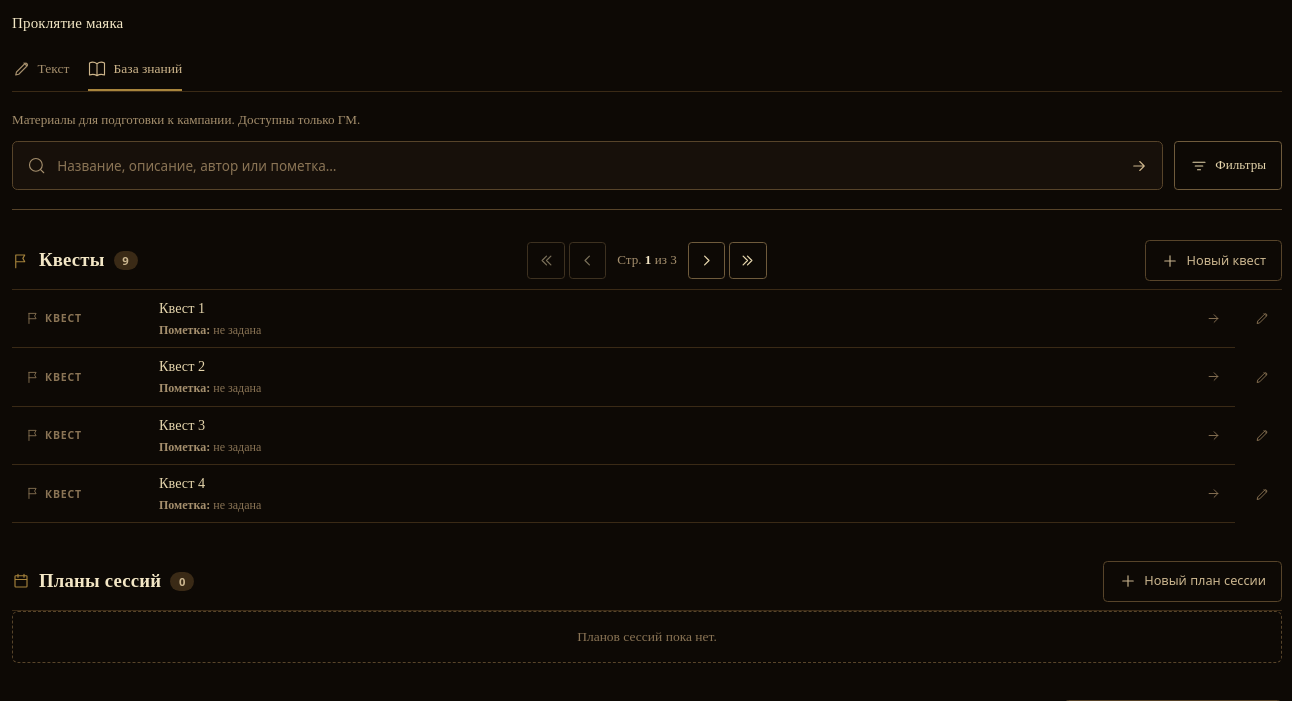
public campaign knowledge base › returns sections to the first page when search changes
The image size is (1292, 701).
Step 1. Click the button named "Последняя страница" → (748, 261), box x1=729 y1=242 x2=767 y2=279
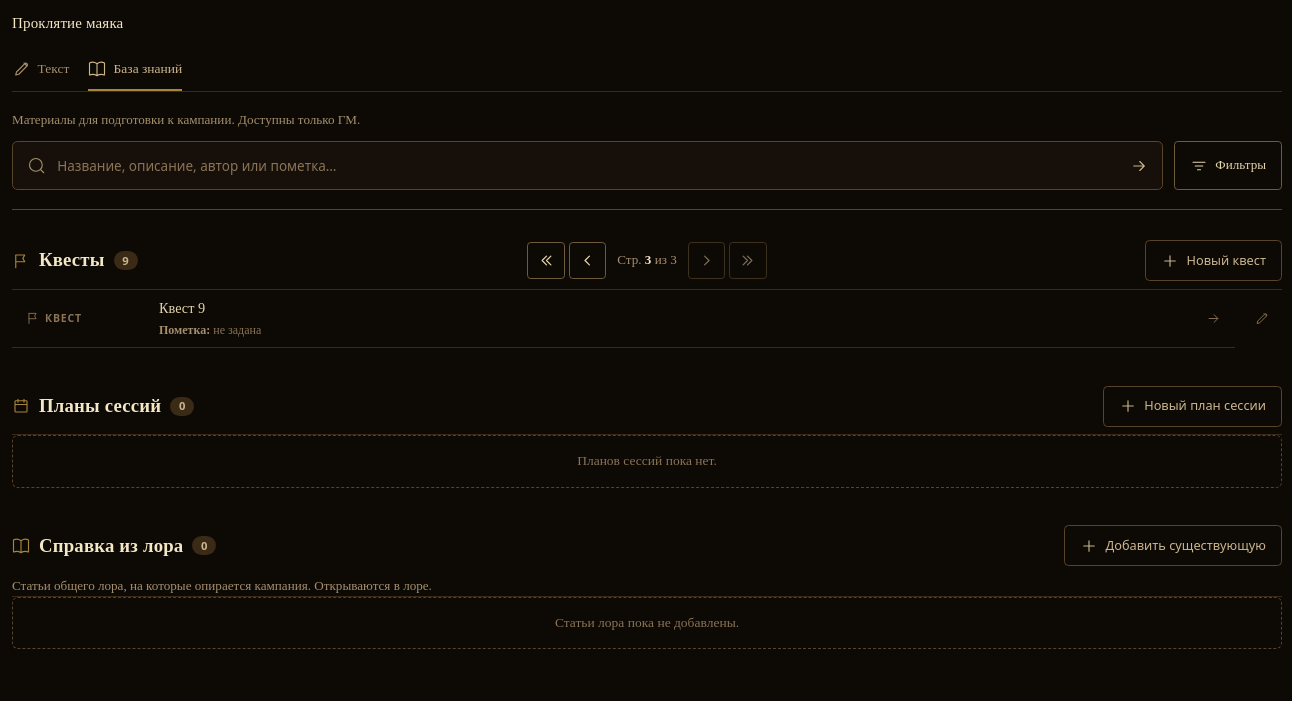
Expected: the text "Квест 9" is shown, x1=159 y1=300 x2=205 y2=316
Step 2. Type "Квест 1" into the search field named "Поиск в базе знаний" → (581, 166), box x1=57 y1=142 x2=1105 y2=189
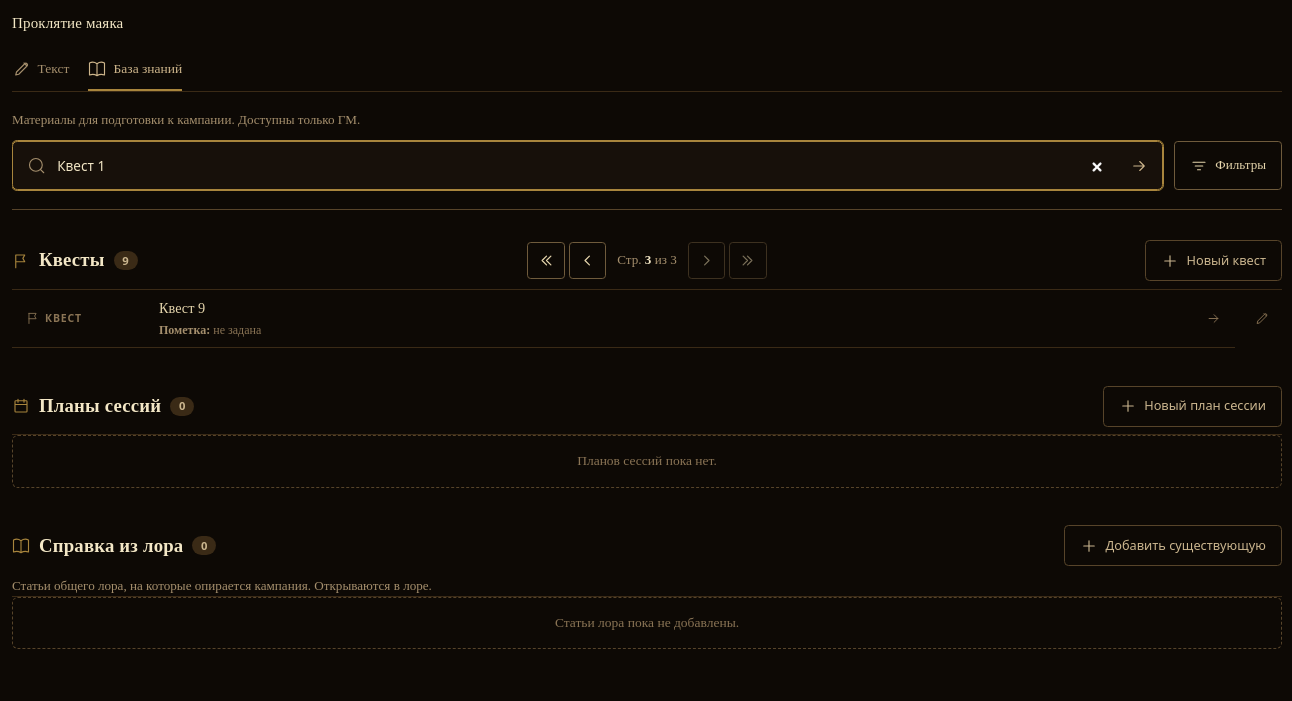
Step 3. Click the button named "Найти" → (1139, 166), box x1=1117 y1=143 x2=1162 y2=188
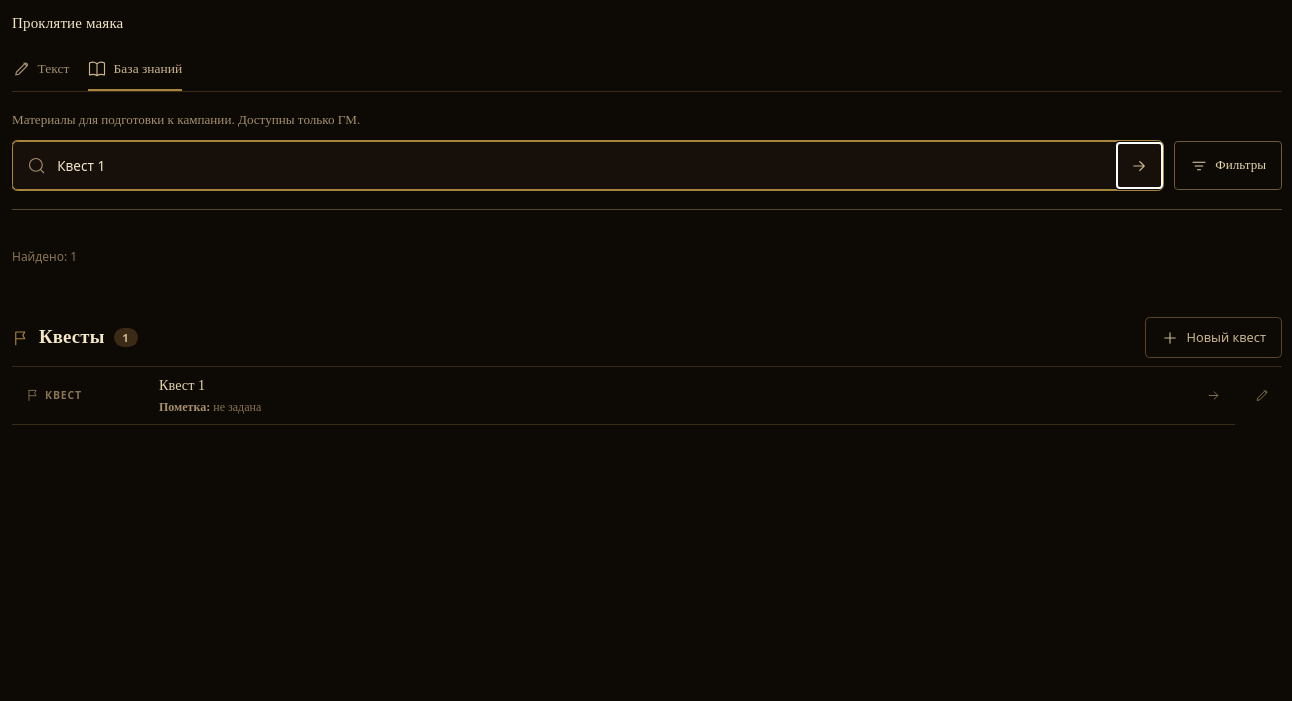
Expected: the text "Квест 1" is shown, x1=159 y1=377 x2=205 y2=393
